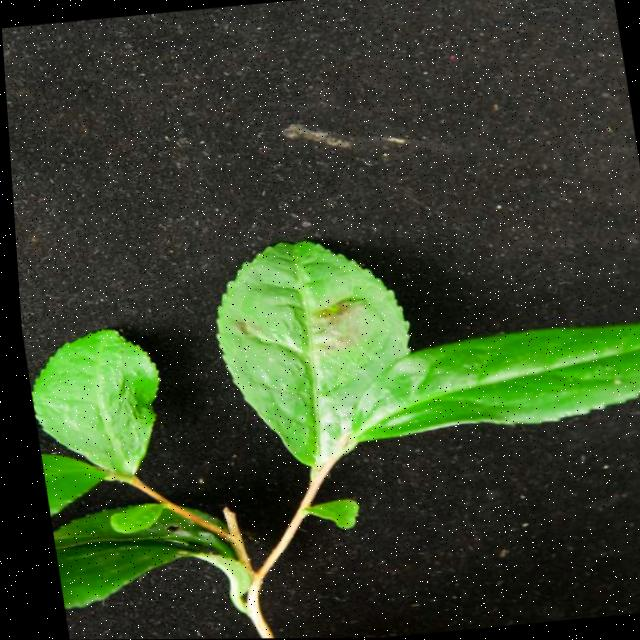Tea exobasidium blight: (227, 295, 375, 370)
